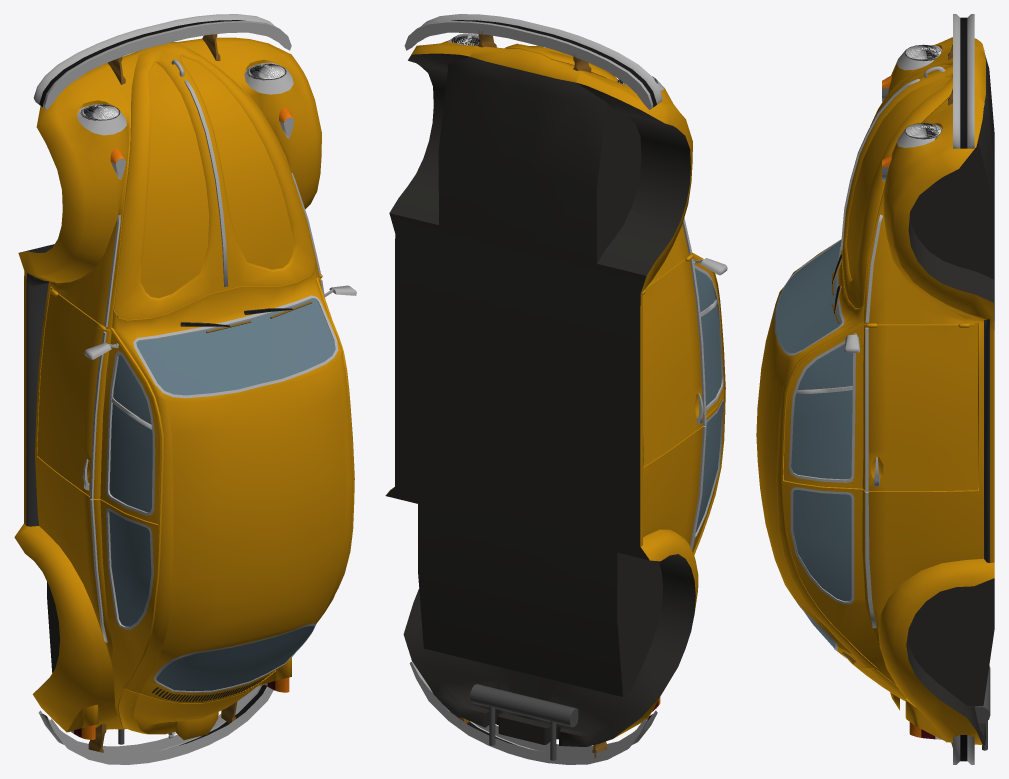
Rendered from volkswagen.obj.
The picture shows the model from 3 angles, left to right: view 1: azimuth 30°, elevation 25°; view 2: azimuth 150°, elevation 25°; view 3: azimuth 270°, elevation 25°; orthographic projection. The views are drawn at different scales.
Visible parts, largest first — view 1: VolksWagen_beetle_lp_Object_7_Object_0.003; view 2: VolksWagen_beetle_lp_Object_7_Object_0.003; view 3: VolksWagen_beetle_lp_Object_7_Object_0.003.
Part boxes in pixels (box(x1,y1,x2,y2)): VolksWagen_beetle_lp_Object_7_Object_0.003: box(14, 14, 356, 764); VolksWagen_beetle_lp_Object_7_Object_0.003: box(385, 14, 727, 764); VolksWagen_beetle_lp_Object_7_Object_0.003: box(756, 14, 994, 764).
Size of the model in its own units: 1.57 by 4.08 by 1.26.
Materials: 16 (16 with a texture image).
